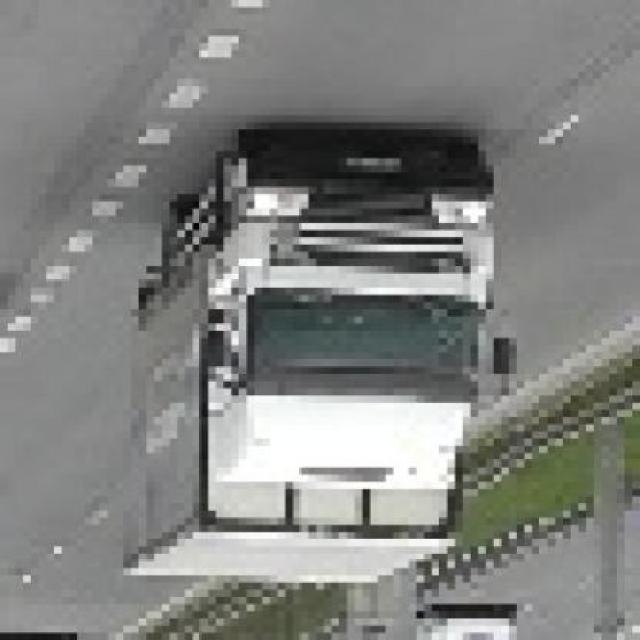truck: (132, 138, 526, 598)
